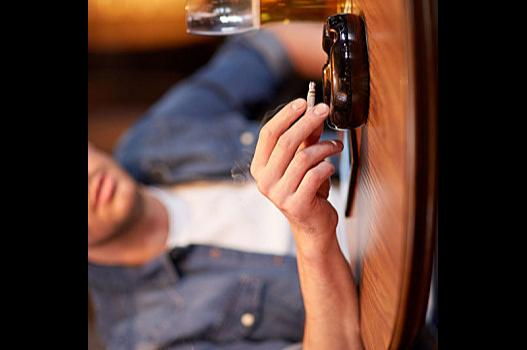Cigarette: (307, 82, 315, 137)
